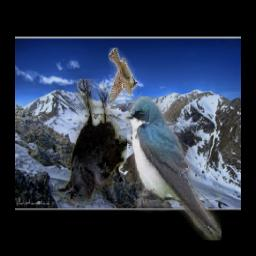Crow: (56, 79, 128, 205)
Sparrow: (109, 49, 137, 106)
Swallow: (124, 97, 222, 241)
